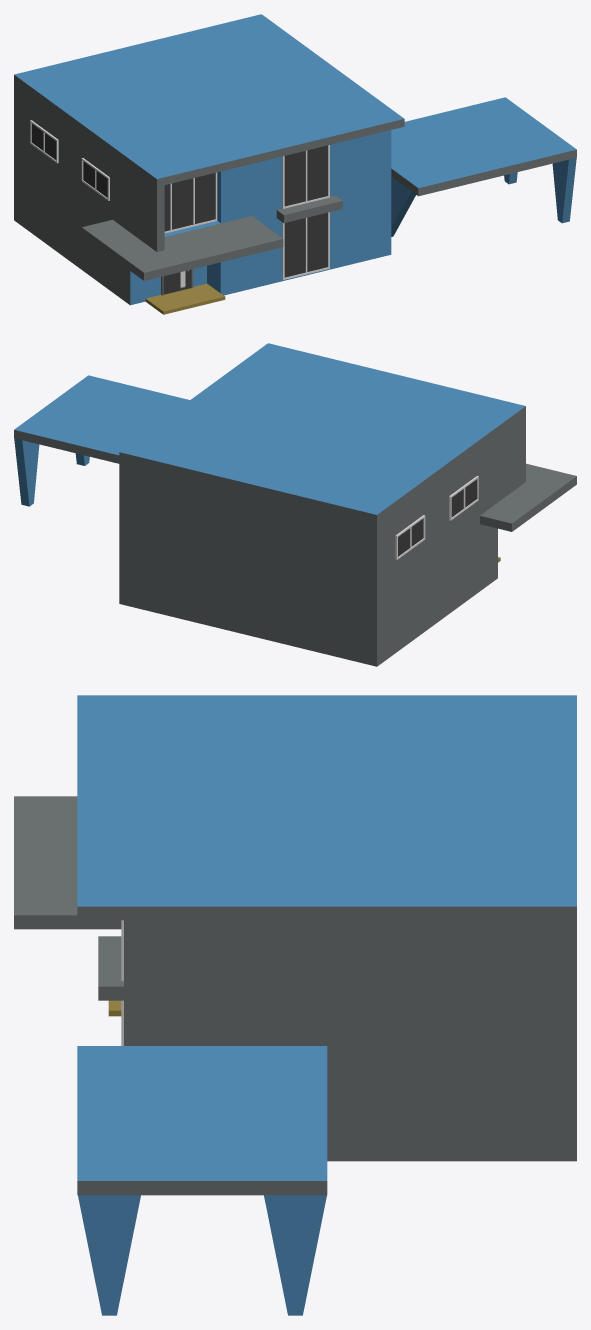
The model's file is building-house-04-color01.glb.
3 views of the same model, one above another, from view 1: azimuth 30°, elevation 25°; view 2: azimuth 150°, elevation 25°; view 3: azimuth 270°, elevation 25° (orthographic). The views are drawn at different scales.
Parts seen in each view (by area): view 1: model; view 2: model; view 3: model.
Boxes of the visible parts, bbox=[...] form: model: bbox=[14, 14, 576, 314]; model: bbox=[14, 343, 576, 666]; model: bbox=[14, 695, 576, 1315].
Bounding box in the file's own units: 24.77 × 7.87 × 15.32.
1 material, 1 textured.
